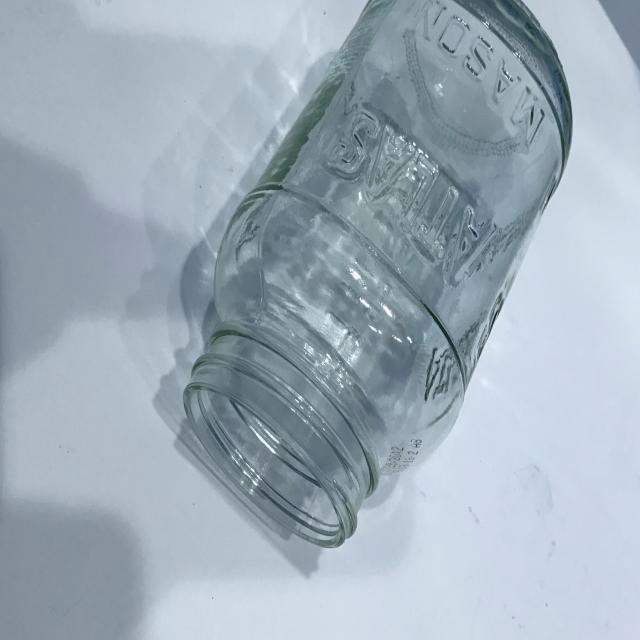glass: (180, 0, 582, 559)
